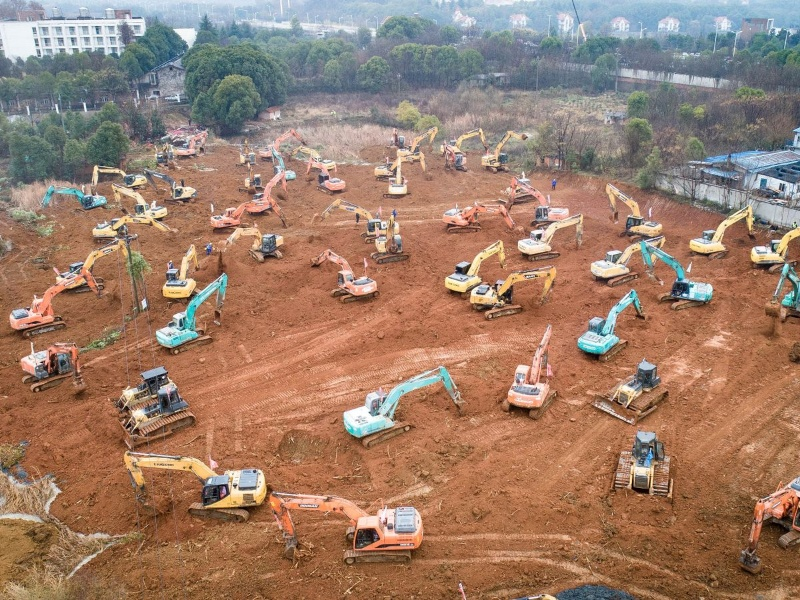excavator: (269, 490, 431, 567), (118, 448, 266, 524), (340, 364, 464, 449), (153, 273, 231, 357), (735, 476, 800, 576), (9, 275, 102, 338), (574, 287, 646, 365), (469, 264, 561, 324), (639, 244, 714, 314), (503, 328, 556, 422), (304, 250, 382, 305), (16, 340, 87, 399), (441, 239, 506, 301), (54, 244, 133, 294), (687, 203, 759, 256), (590, 238, 667, 287), (309, 199, 400, 239), (516, 213, 586, 262), (605, 185, 668, 239), (89, 215, 180, 244), (442, 201, 516, 236), (748, 227, 800, 276), (219, 227, 286, 265), (158, 242, 201, 301), (143, 166, 200, 208), (480, 130, 532, 176), (762, 265, 800, 325), (33, 186, 106, 217), (437, 128, 483, 177), (89, 161, 148, 191), (209, 199, 257, 235), (303, 161, 344, 197), (380, 155, 409, 201)
vehicle: (118, 387, 196, 448), (611, 432, 674, 507), (113, 364, 180, 416)
